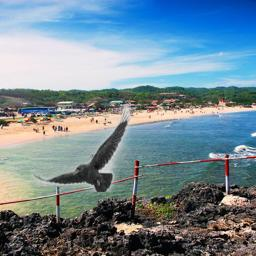Crow: (30, 104, 131, 192)
